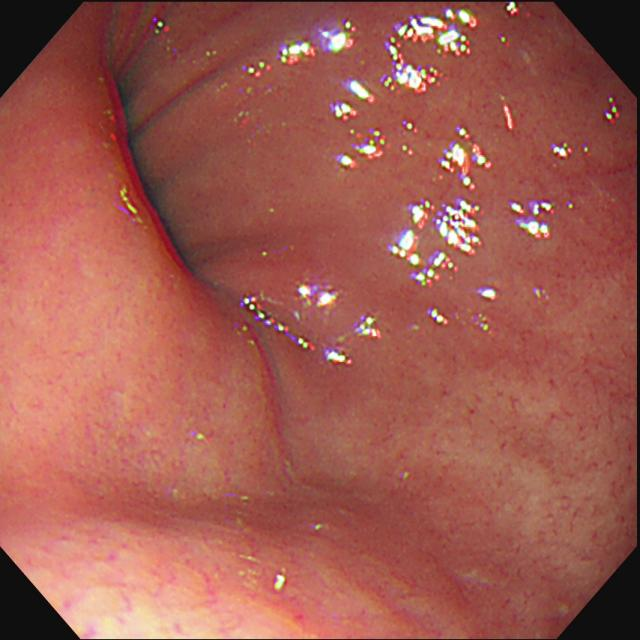I: (62, 34, 249, 323)
U: (383, 8, 479, 96), (392, 198, 485, 287), (247, 17, 362, 80), (332, 80, 388, 171), (240, 292, 316, 353), (438, 124, 494, 192), (509, 197, 559, 240), (297, 280, 344, 314), (343, 313, 384, 345), (398, 116, 419, 157), (499, 94, 519, 133), (322, 346, 354, 368), (272, 566, 292, 596), (426, 306, 451, 329), (604, 95, 623, 124), (552, 138, 575, 161), (479, 287, 500, 303), (501, 2, 522, 16)
